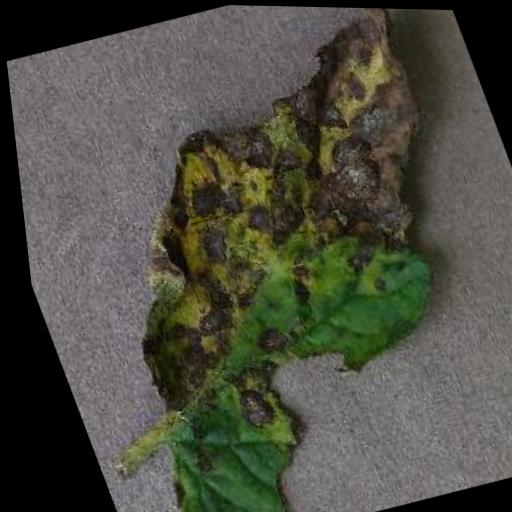Early Blight: (6, 0, 512, 512)
